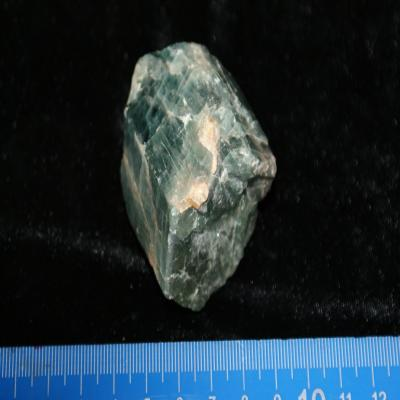mineralogy: (119, 42, 278, 314)
